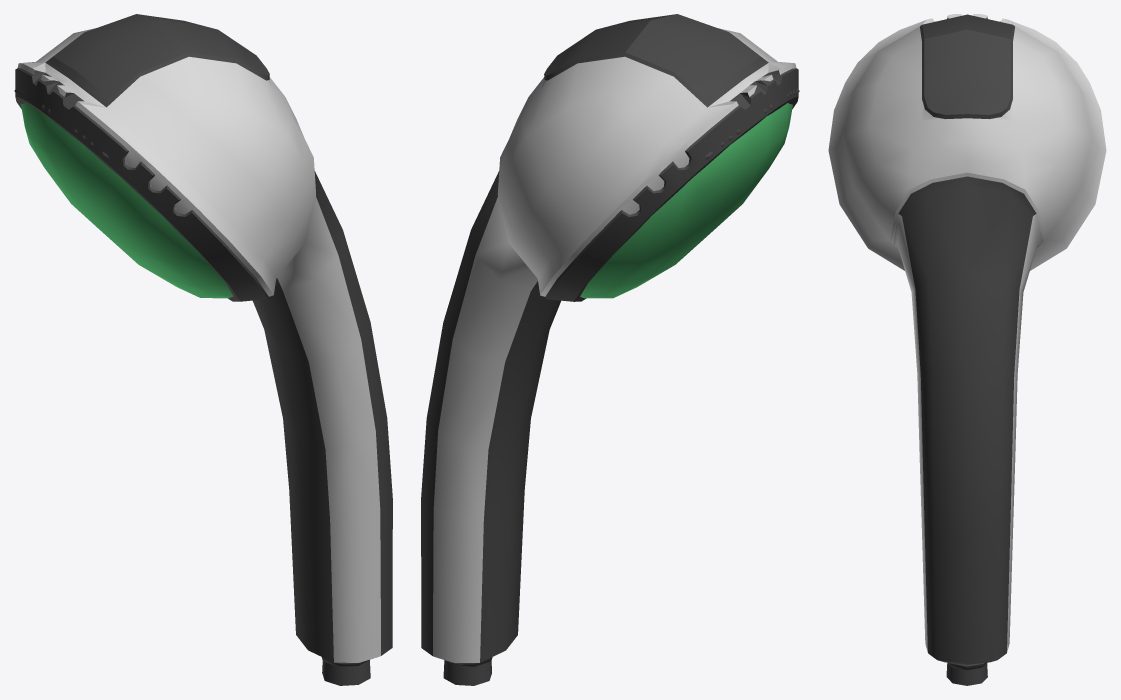
The picture shows the model from 3 angles, left to right: view 1: azimuth 30°, elevation 25°; view 2: azimuth 150°, elevation 25°; view 3: azimuth 270°, elevation 25°; orthographic projection. The views are drawn at different scales.
Visible parts, largest first — view 1: K18527T; view 2: K18527T; view 3: K18527T.
Part boxes in pixels (<box>): K18527T: <box>14,14,392,685</box>; K18527T: <box>421,14,799,685</box>; K18527T: <box>828,14,1106,685</box>.
Size of the model in its own units: 288 by 568 by 249.
